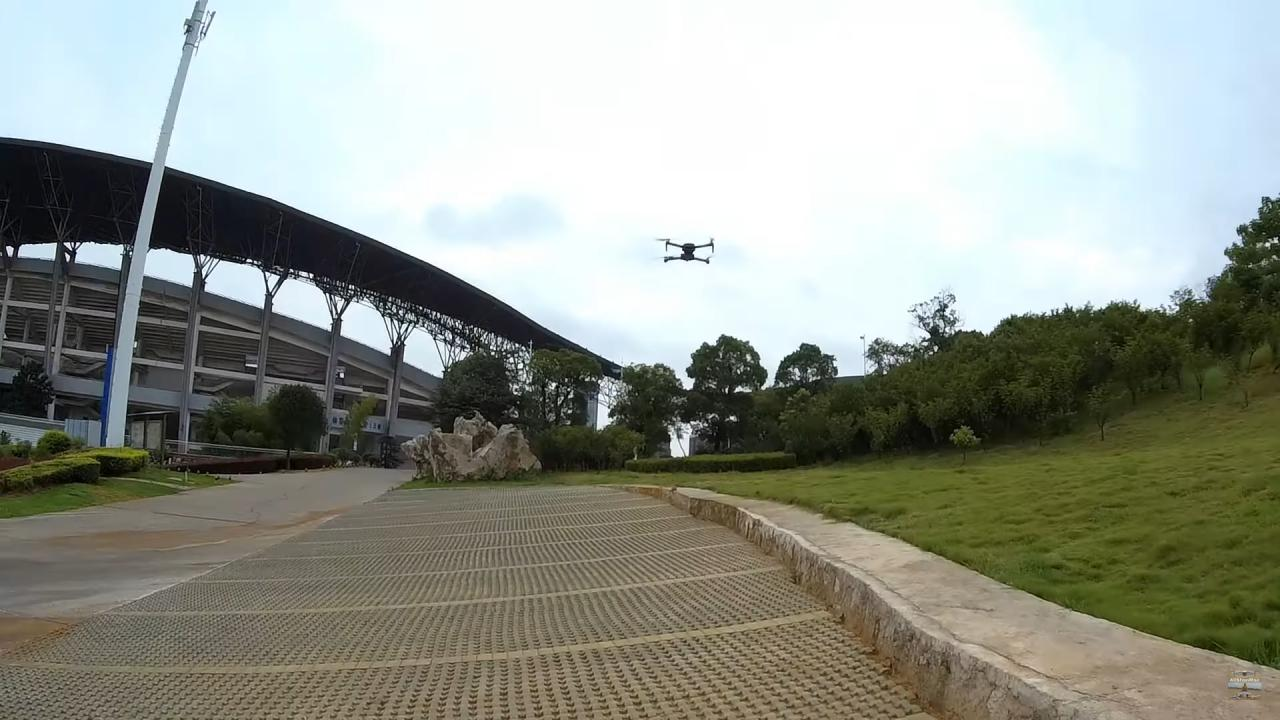Drone: (646, 227, 728, 276)
